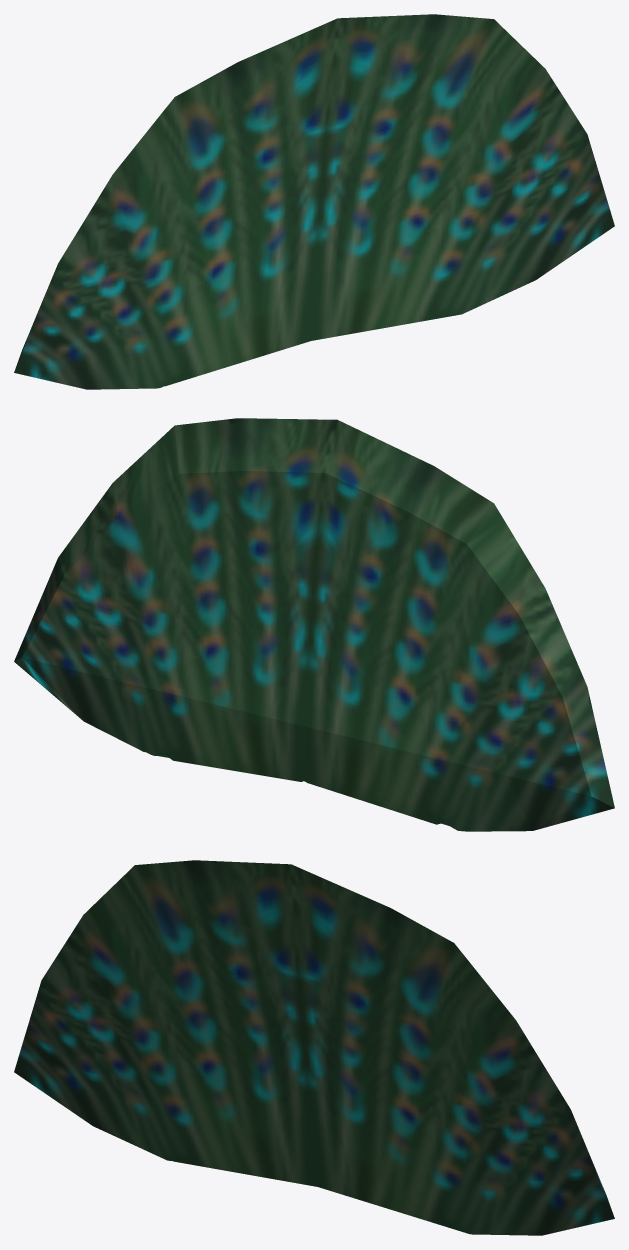
The model's file is PlumagemDePavao.fbx.
3 views of the same model, one above another, from view 1: azimuth 30°, elevation 25°; view 2: azimuth 150°, elevation 25°; view 3: azimuth 330°, elevation 25° (orthographic).
Parts seen in each view (by area): view 1: PlumagemPavao; view 2: PlumagemPavao; view 3: PlumagemPavao.
Boxes of the visible parts, x1,y1,x2,y2 form: PlumagemPavao: (14, 14, 614, 389); PlumagemPavao: (14, 418, 614, 831); PlumagemPavao: (14, 860, 614, 1235).
Size of the model in its own units: 171 by 96.28 by 15.22.
